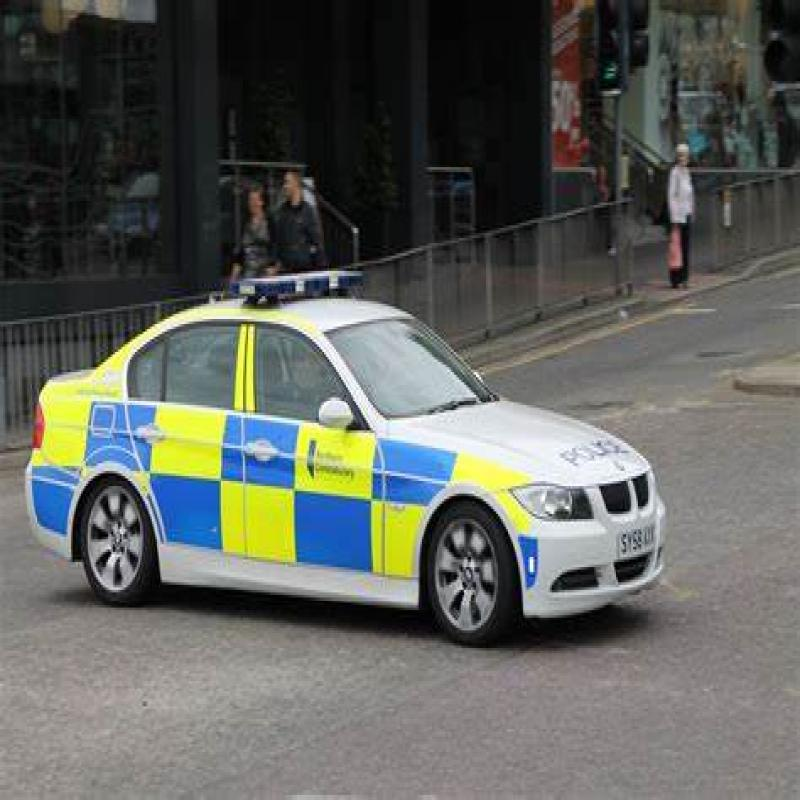AmbulanceSiren: (230, 259, 363, 323)
